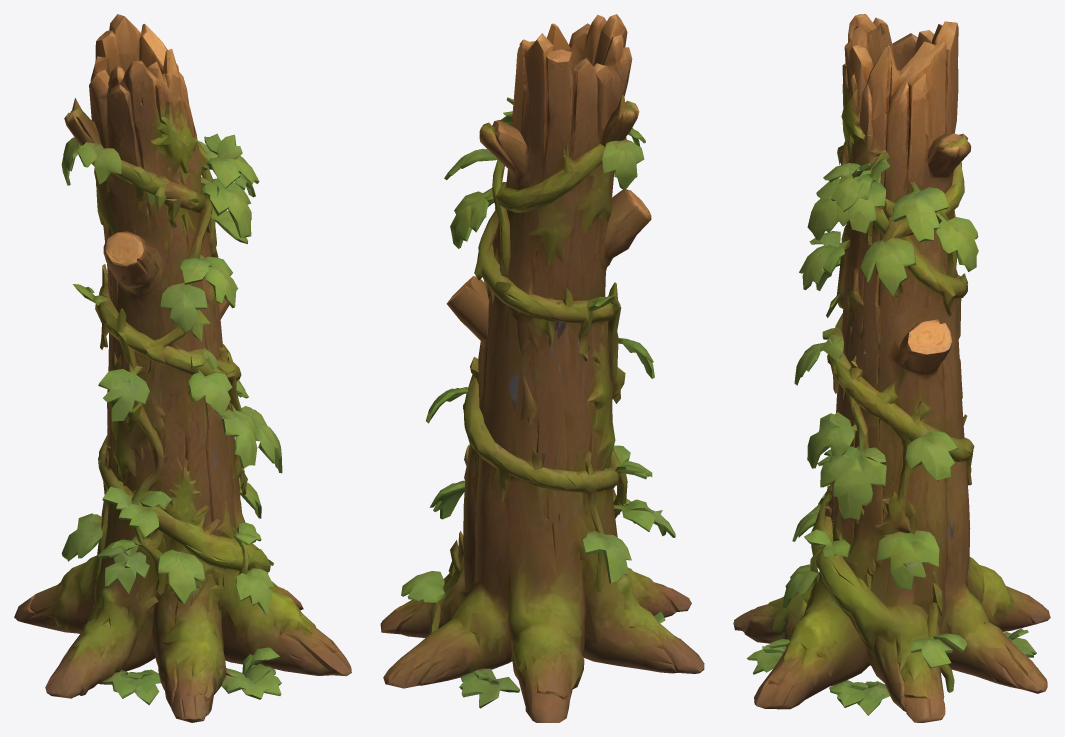
The model's file is tronco_enredadera.glb.
3 renders of one model, left to right at view 1: azimuth 30°, elevation 25°; view 2: azimuth 150°, elevation 25°; view 3: azimuth 270°, elevation 25°, orthographic. The views are drawn at different scales.
Parts seen in each view (by area): view 1: tronco_enredadera_malla; view 2: tronco_enredadera_malla; view 3: tronco_enredadera_malla.
Boxes of the visible parts, bbox=[...] form: tronco_enredadera_malla: bbox=[14, 14, 351, 722]; tronco_enredadera_malla: bbox=[380, 14, 704, 722]; tronco_enredadera_malla: bbox=[733, 14, 1050, 722].
Bounding box in the file's own units: 0.2696 × 0.5748 × 0.2632.
1 material, 1 textured.
